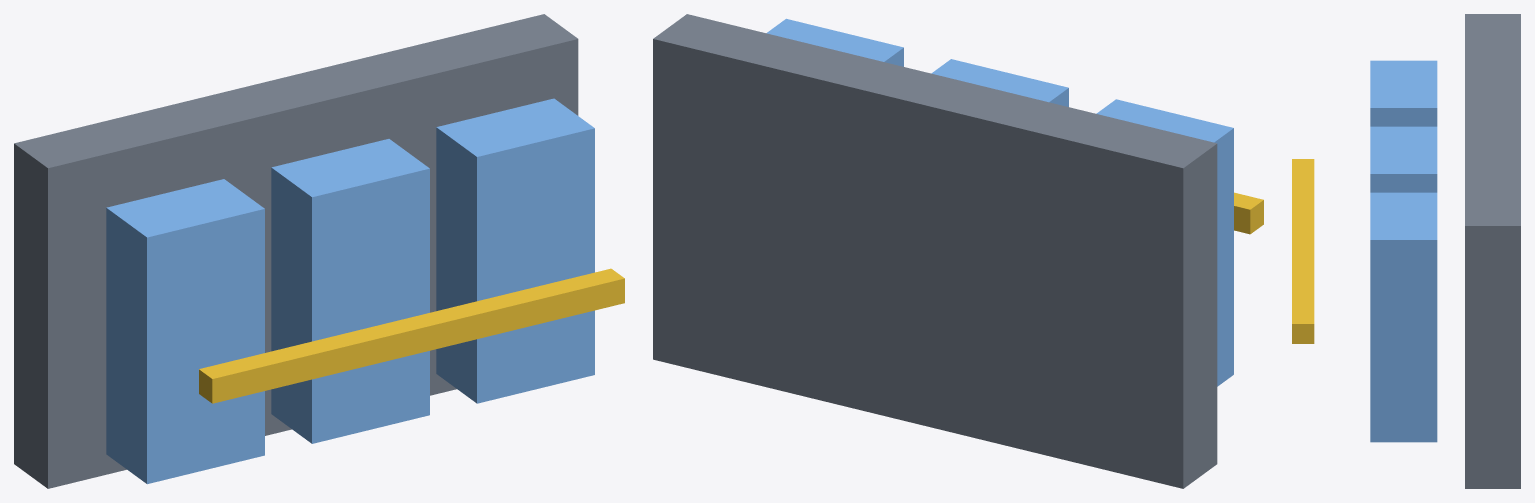
Rendered from gpu_test_rig.glb.
3 views of the same model, side by side, from view 1: azimuth 30°, elevation 25°; view 2: azimuth 150°, elevation 25°; view 3: azimuth 270°, elevation 25° (orthographic). The views are drawn at different scales.
Parts seen in each view (by area): view 1: frame_0, gpu_1, gpu_3, gpu_2, powerbar_4; view 2: frame_0, gpu_1, gpu_3, gpu_2, powerbar_4; view 3: frame_0, gpu_3, gpu_1, gpu_2, powerbar_4.
Part boxes in pixels (x1,y1,x2,y2): frame_0: (14,14,578,488); gpu_1: (106,179,264,484); gpu_3: (436,98,594,403); gpu_2: (271,139,429,443); powerbar_4: (199,268,624,403); frame_0: (653,14,1217,488); gpu_1: (1096,99,1233,386); gpu_3: (766,18,903,66); gpu_2: (931,59,1068,106); powerbar_4: (1234,192,1263,234); frame_0: (1465,14,1520,488); gpu_3: (1370,192,1437,442); gpu_1: (1370,60,1437,126); gpu_2: (1370,126,1437,192); powerbar_4: (1292,159,1314,343).
Bounding box in the file's own units: 0.9 × 0.52 × 0.41.
